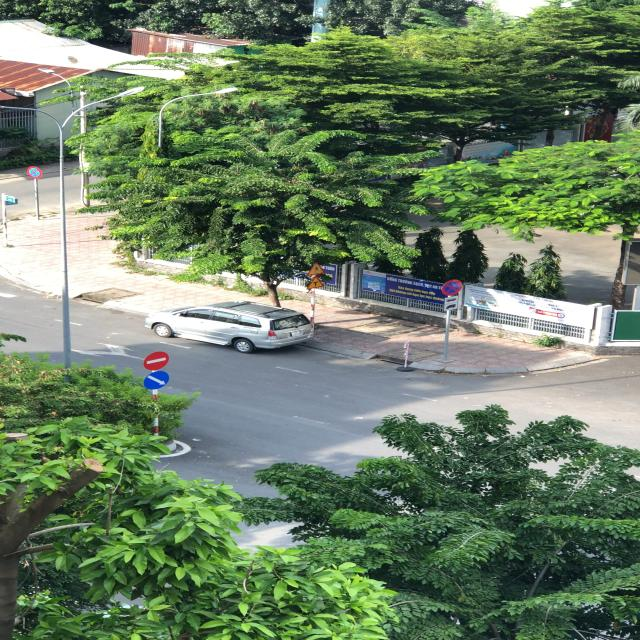Bien bao cam di nguoc chieu: (142, 350, 172, 373)
Bien bao cam dung xe va do xe: (440, 278, 468, 296)
Bien bao duong giao nhau: (304, 276, 328, 289)
Bien bao duong nguoi di bo cat ngang: (304, 262, 327, 274)
Bien bao huong phai di vong chuong ngai vat: (142, 372, 174, 390)
